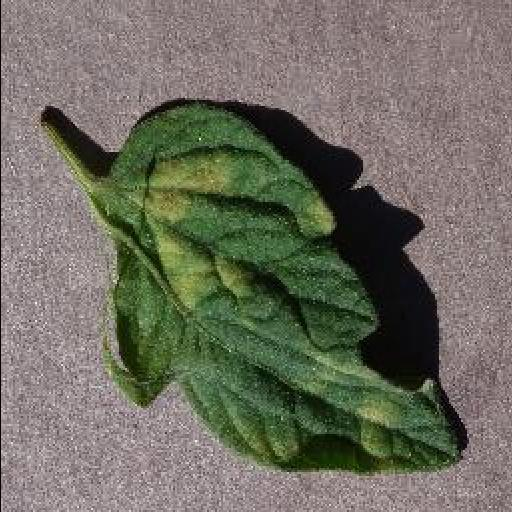disease_tomato: (102, 102, 464, 476)
